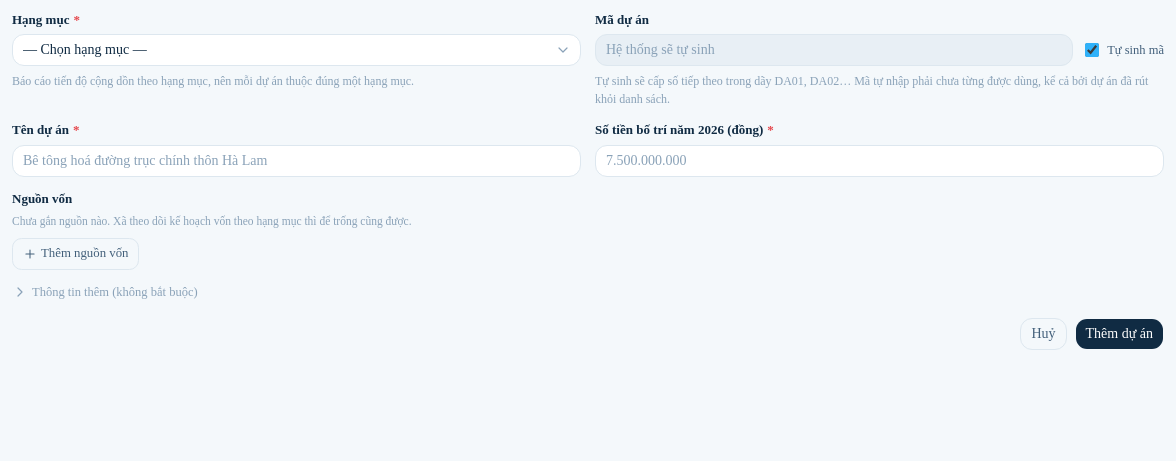
Test: §9 funding list — add form › per-row hint is the server's figure for the year: còn X chưa phân bổ trên tổng Y
Click the button "Thêm nguồn vốn" at point(76, 254), box [12,238,139,270]
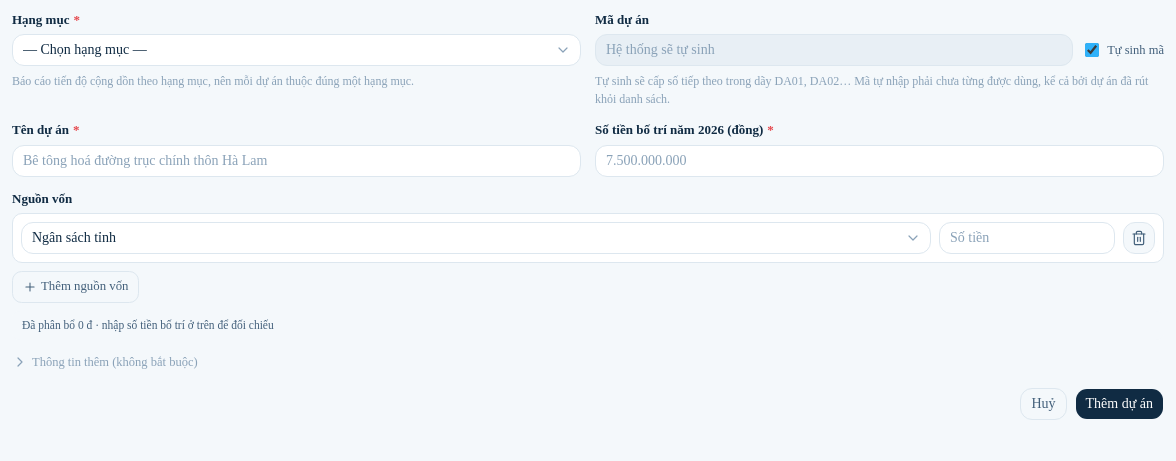
Select "Ngân sách tỉnh" in the 2nd dropdown at point(476, 238), box [21,222,931,254]
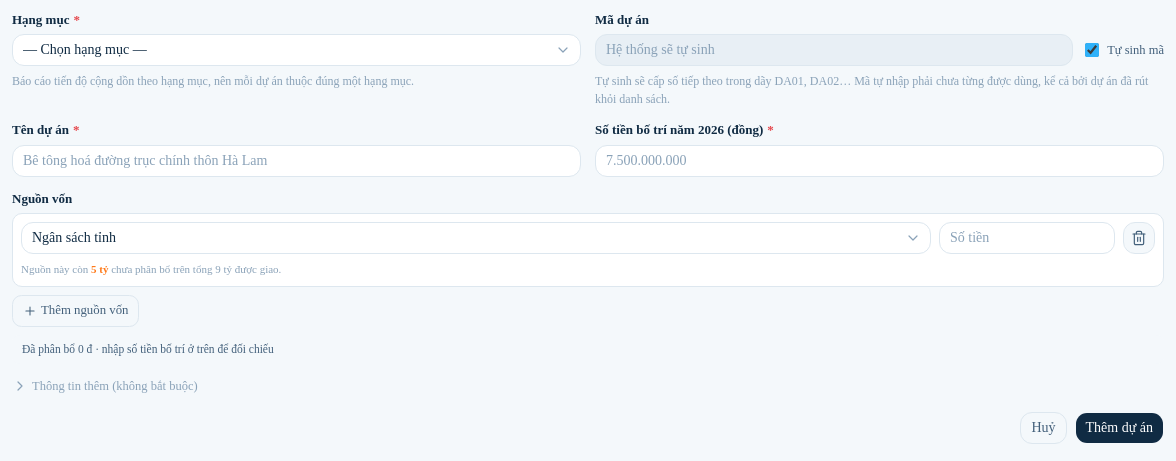
Expected: the text "Nguồn này còn 5 tỷ chưa phân bổ trên tổng 9 tỷ được giao." is shown, [21,263,281,275]
